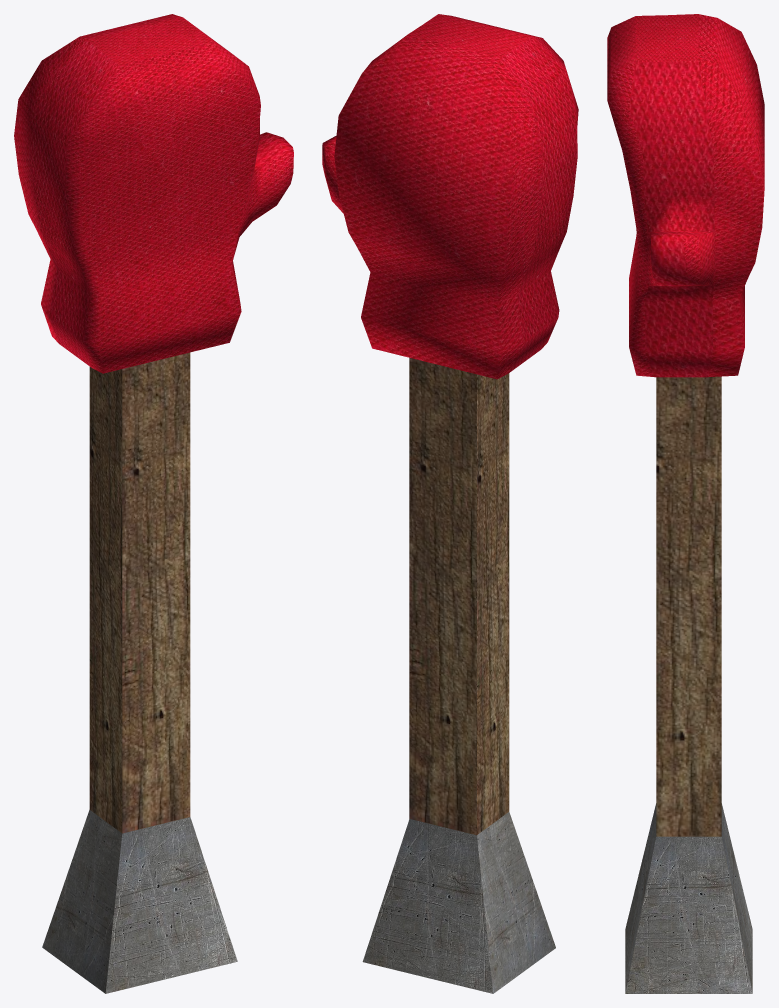
The model's file is Punisher.dae.
The picture shows the model from 3 angles, left to right: view 1: azimuth 30°, elevation 25°; view 2: azimuth 150°, elevation 25°; view 3: azimuth 270°, elevation 25°; orthographic projection.
Visible parts, largest first — view 1: Cube; view 2: Cube; view 3: Cube.
Boxes of the visible parts, bbox=[...] form: Cube: bbox=[14, 14, 293, 993]; Cube: bbox=[322, 14, 578, 993]; Cube: bbox=[607, 14, 764, 993].
Size of the model in its own units: 1.59 by 0.9056 by 5.88.
